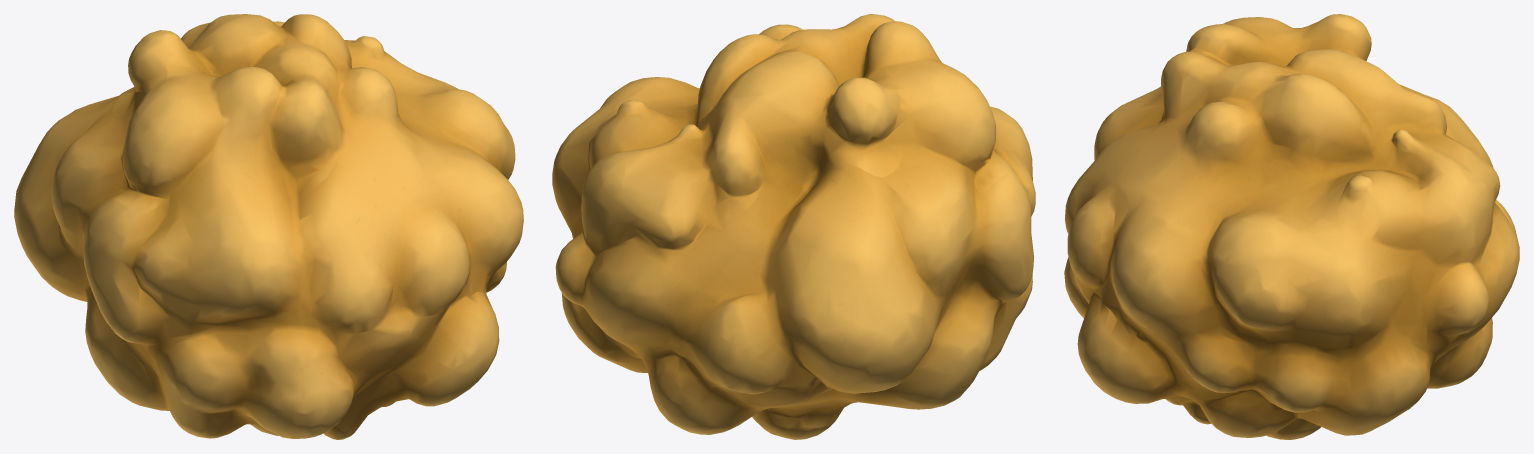
The model's file is Prop_ChymeBlob.glb.
The picture shows the model from 3 angles, left to right: view 1: azimuth 30°, elevation 25°; view 2: azimuth 150°, elevation 25°; view 3: azimuth 270°, elevation 25°; orthographic projection. The views are drawn at different scales.
Size of the model in its own units: 1.9 by 1.71 by 1.85.
1 material, 1 textured.
